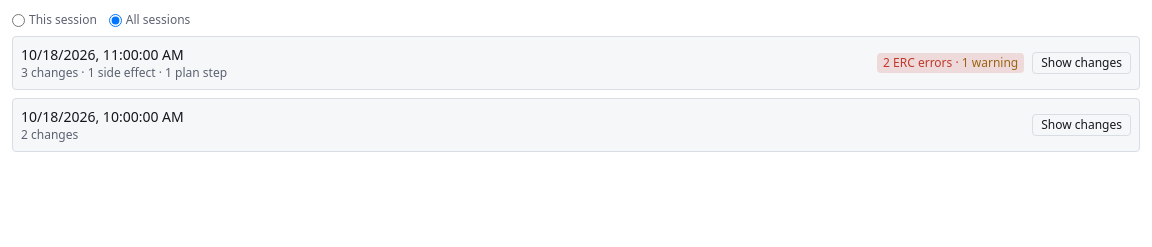
ChangesPanel › ERC badge details show justified errors with their reason
The image size is (1152, 247).
Click the button with aria-label "2 new ERC errors" at (951, 63), box [877,53,1024,73]
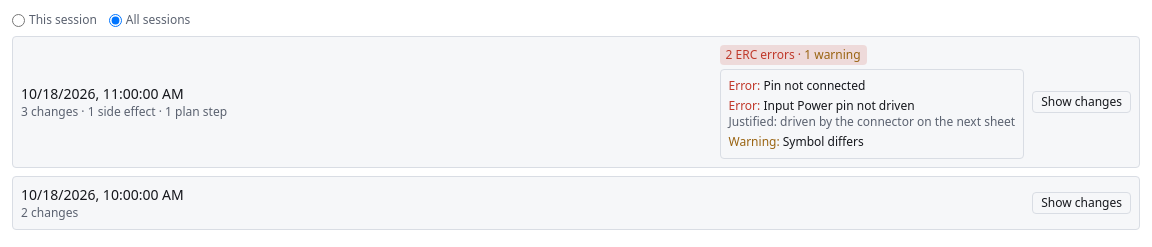
Result: the text "Pin not connected" is shown at [763,77,865,94]
Result: the text "Justified: driven by the connector on the next sheet" is shown at [728,114,1015,130]
